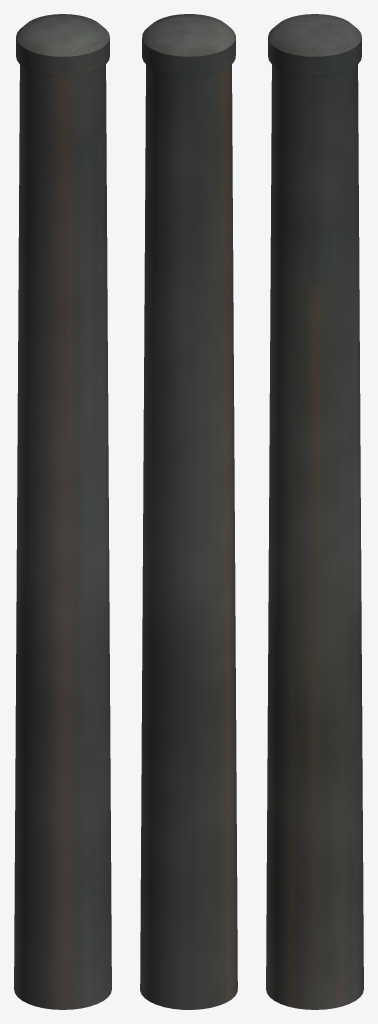
Rendered from mastTop-v1.glb.
3 renders of one model, left to right at view 1: azimuth 90°, elevation 25°; view 2: azimuth 150°, elevation 25°; view 3: azimuth 270°, elevation 25°, orthographic.
Visible parts, largest first — view 1: mastTop-v1; view 2: mastTop-v1; view 3: mastTop-v1.
Boxes of the visible parts, left/top/right/bottom form: mastTop-v1: left=14, top=14, right=111, bottom=1009; mastTop-v1: left=140, top=14, right=237, bottom=1009; mastTop-v1: left=266, top=14, right=363, bottom=1009.
Bounding box in the file's own units: 0.2284 × 2.48 × 0.2284.
Materials: 1 (1 with a texture image).
